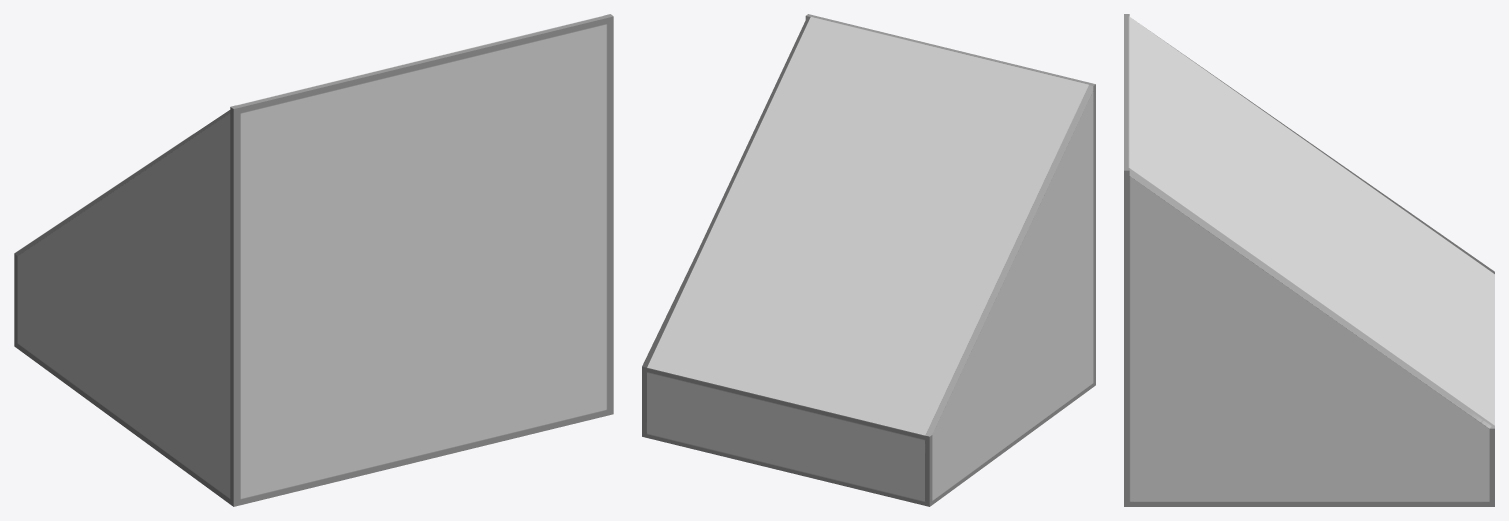
File: jalan turun.fbx
3 views of the same model, side by side, from view 1: azimuth 30°, elevation 25°; view 2: azimuth 150°, elevation 25°; view 3: azimuth 270°, elevation 25° (orthographic). The views are drawn at different scales.
Visible parts, largest first — view 1: jalan turun kecil; view 2: jalan turun kecil; view 3: jalan turun kecil.
Part boxes in pixels (<box>): jalan turun kecil: <box>14,14,613,506</box>; jalan turun kecil: <box>642,14,1095,506</box>; jalan turun kecil: <box>1124,14,1494,506</box>.
Size of the model in its own units: 300 by 300 by 300.
Materials: 1 (1 with a texture image).
